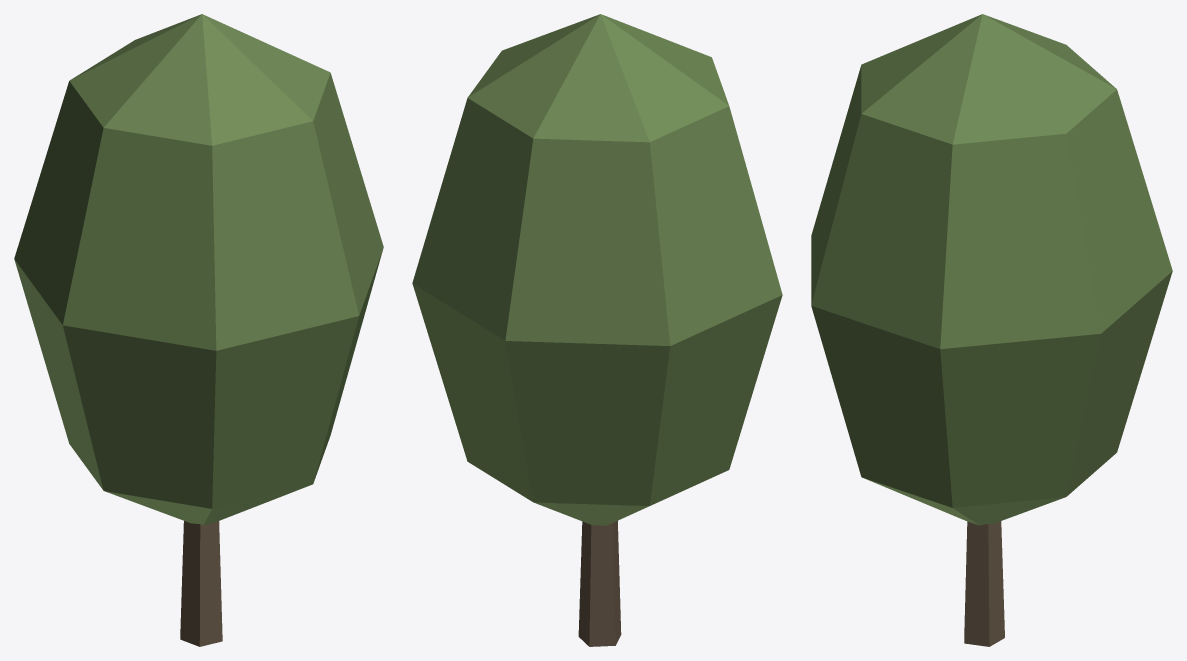
File: simple_tree_b.glb
3 renders of one model, left to right at view 1: azimuth 30°, elevation 25°; view 2: azimuth 150°, elevation 25°; view 3: azimuth 270°, elevation 25°, orthographic.
Parts seen in each view (by area): view 1: SimpleTreeB; view 2: SimpleTreeB; view 3: SimpleTreeB.
Boxes of the visible parts, box(x1,y1,x2,y2) form: SimpleTreeB: box(14, 14, 383, 646); SimpleTreeB: box(412, 14, 782, 646); SimpleTreeB: box(811, 14, 1172, 646).
Bounding box in the file's own units: 5.44 × 10.1 × 5.3.
